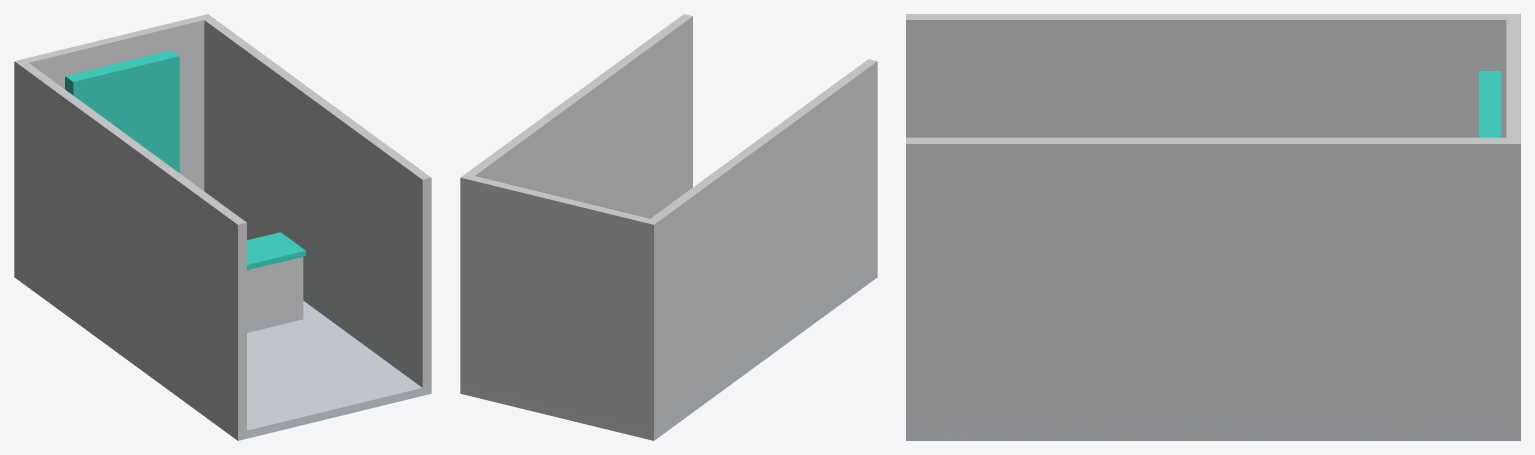
3 views of the same model, side by side, from view 1: azimuth 30°, elevation 25°; view 2: azimuth 150°, elevation 25°; view 3: azimuth 270°, elevation 25° (orthographic). The views are drawn at different scales.
Visible parts, largest first — view 1: Exhibition Booth Concept; view 2: Exhibition Booth Concept; view 3: Exhibition Booth Concept.
Boxes of the visible parts, bbox=[...] form: Exhibition Booth Concept: bbox=[14, 14, 431, 440]; Exhibition Booth Concept: bbox=[460, 14, 877, 440]; Exhibition Booth Concept: bbox=[906, 14, 1520, 440].
Size of the model in its own units: 3 by 3.2 by 6.
